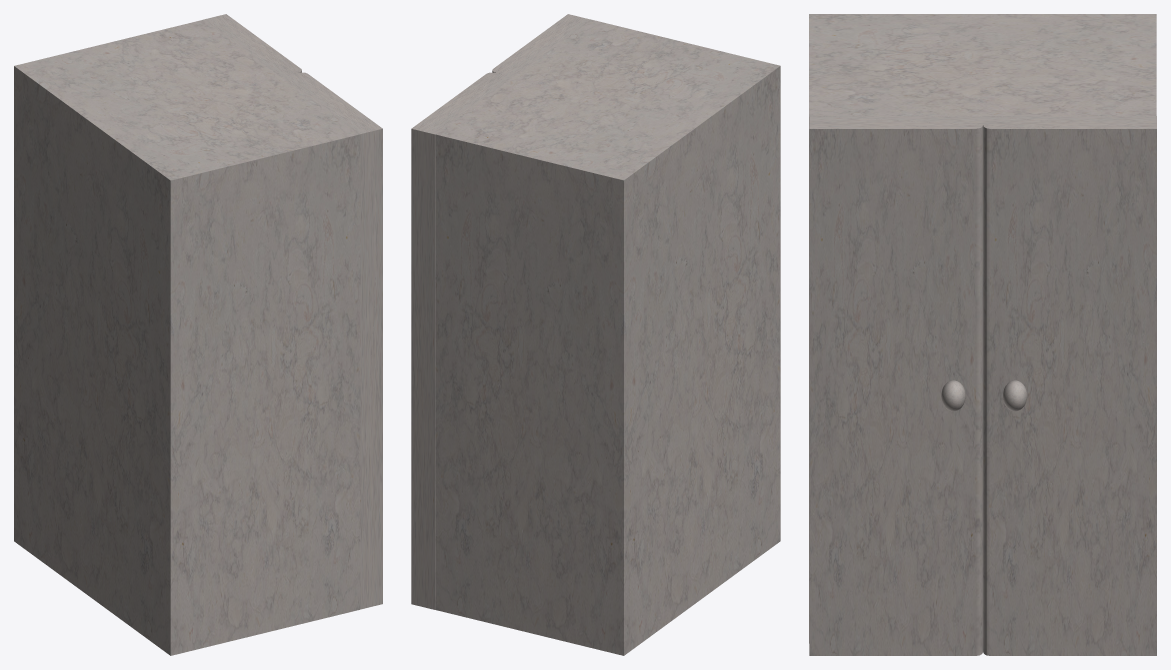
Rendered from armario.obj.
The picture shows the model from 3 angles, left to right: view 1: azimuth 30°, elevation 25°; view 2: azimuth 150°, elevation 25°; view 3: azimuth 270°, elevation 25°; orthographic projection. The views are drawn at different scales.
Parts seen in each view (by area): view 1: pSphere3; view 2: pSphere3; view 3: pSphere3.
Boxes of the visible parts, bbox=[...] form: pSphere3: bbox=[14, 14, 382, 655]; pSphere3: bbox=[411, 14, 780, 655]; pSphere3: bbox=[809, 14, 1156, 655].
Bounding box in the file's own units: 1.5 × 2.95 × 1.76.
